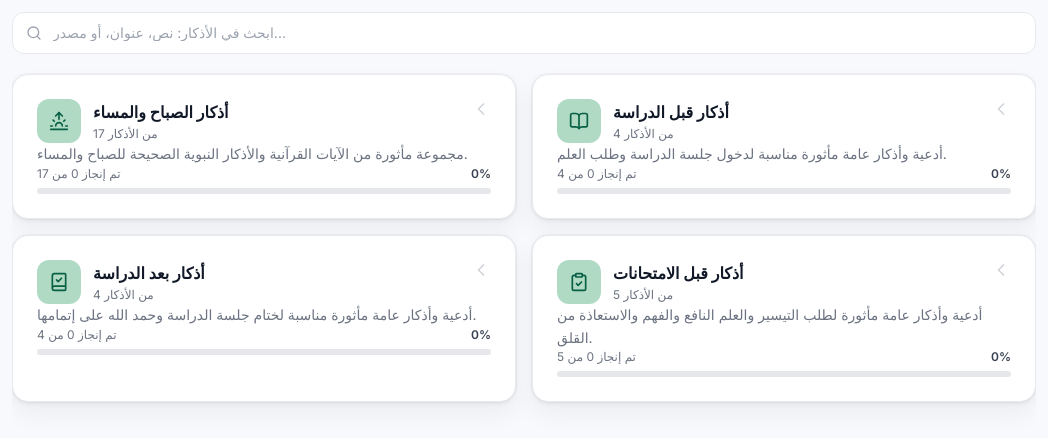
Test: AdhkarPage overview › filters across categories from the overview search
Type "آية الكرسي" into the field named "البحث في الأذكار" at (524, 33), box [12,12,1036,54]
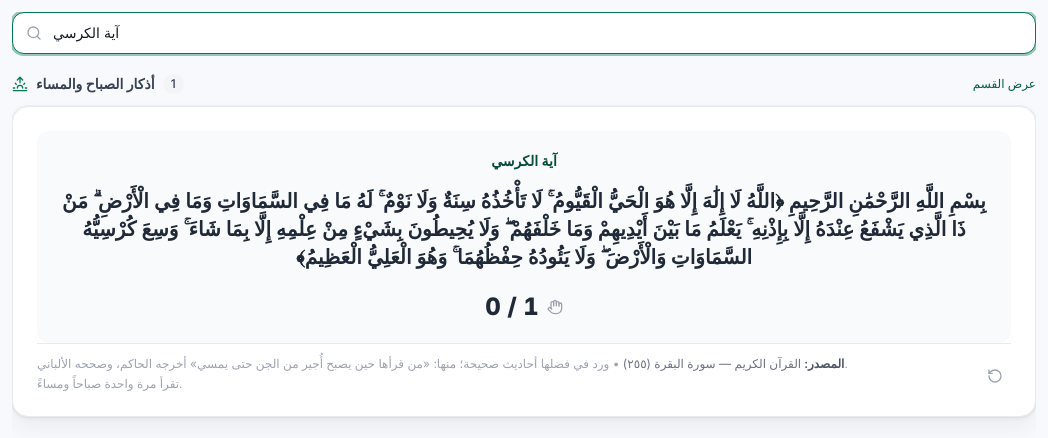
Expected: the element with test id "adhkar-me-ayatul-kursi" is shown
Expected: the button "أذكار بعد الدراسة" is gone
